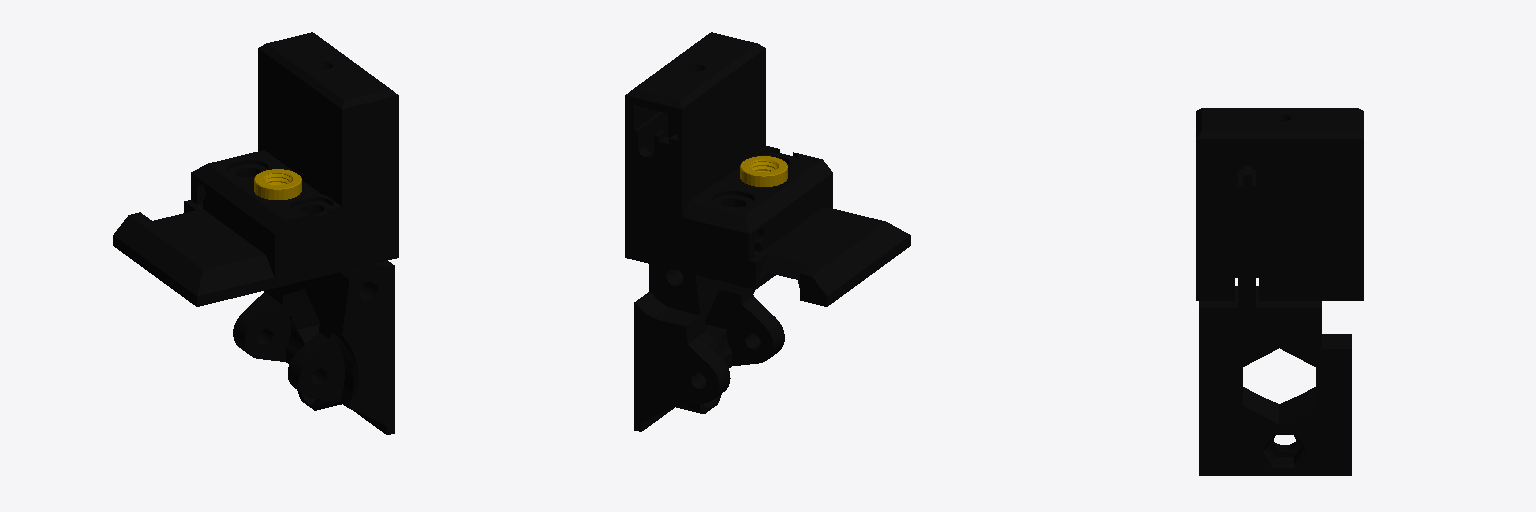
The model's file is E_MMU.obj.
The picture shows the model from 3 angles: view 1: azimuth 30°, elevation 25°; view 2: azimuth 150°, elevation 25°; view 3: azimuth 270°, elevation 25°; orthographic projection.
Visible parts, largest first — view 1: patch0, patch1; view 2: patch0, patch1; view 3: patch0.
Part boxes in pixels (left/top/right/bottom): patch0: left=113, top=32, right=398, bottom=434; patch1: left=254, top=169, right=301, bottom=199; patch0: left=625, top=32, right=910, bottom=431; patch1: left=740, top=156, right=787, bottom=186; patch0: left=1196, top=108, right=1363, bottom=475.
Bounding box in the file's own units: 39 × 63.5 × 28.